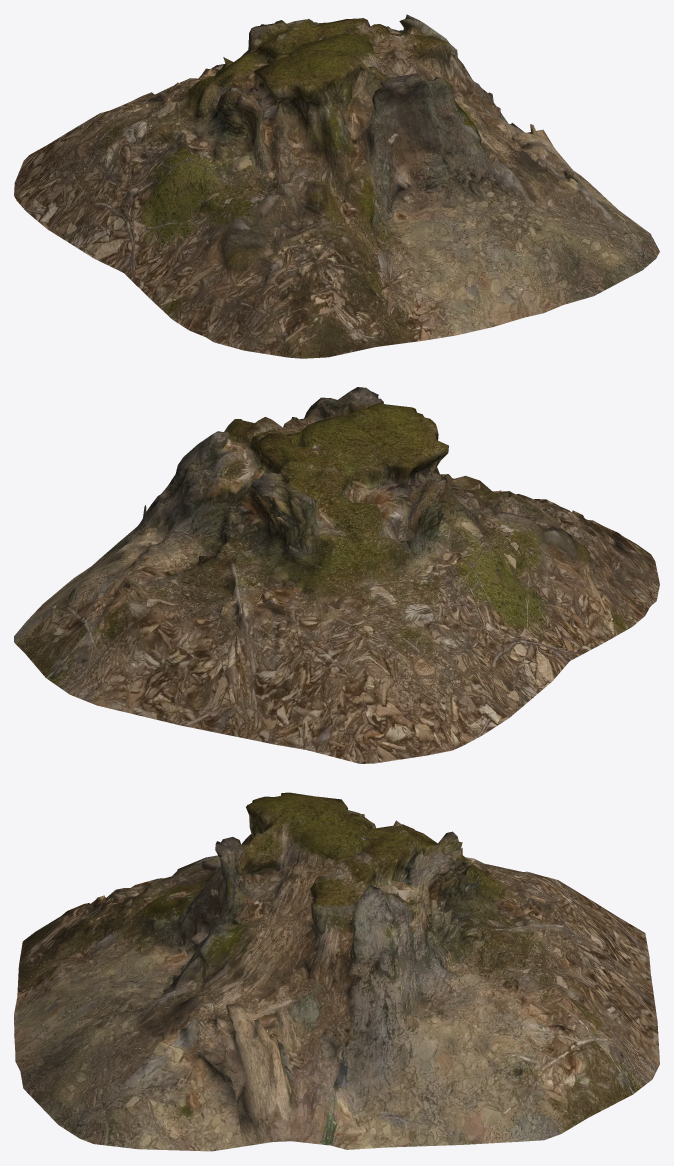
Rendered from tree_stump_01.glb.
3 views of the same model, one above another, from view 1: azimuth 30°, elevation 25°; view 2: azimuth 150°, elevation 25°; view 3: azimuth 270°, elevation 25° (orthographic). The views are drawn at different scales.
Visible parts, largest first — view 1: tree_stump_01; view 2: tree_stump_01; view 3: tree_stump_01.
Part boxes in pixels (left/top/right/bottom): tree_stump_01: left=14, top=14, right=659, bottom=358; tree_stump_01: left=14, top=387, right=659, bottom=763; tree_stump_01: left=14, top=792, right=659, bottom=1151.
Bounding box in the file's own units: 1.43 × 0.571 × 1.59.
Materials: 1 (1 with a texture image).
